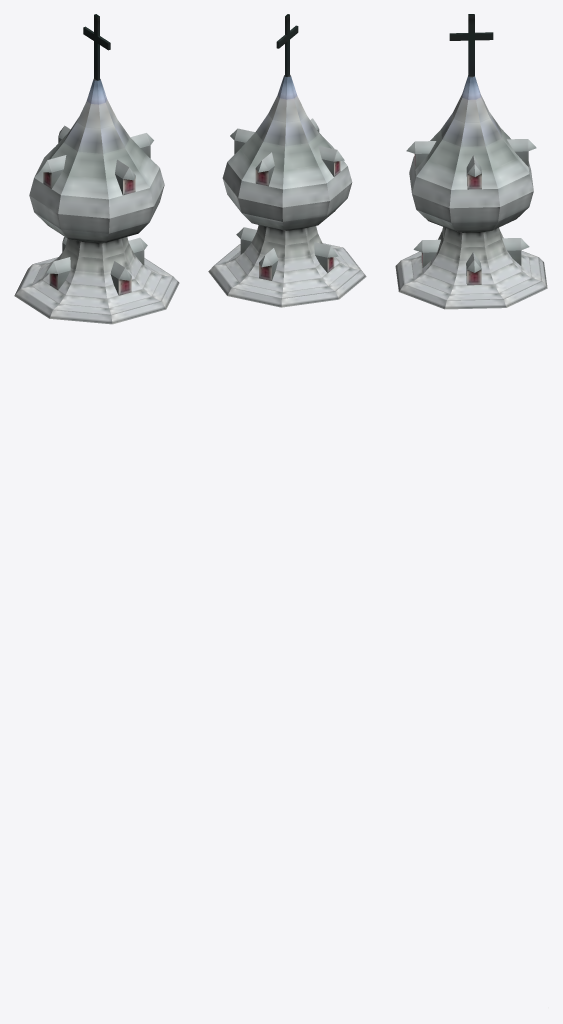
The model's file is euroB_08.glb.
The picture shows the model from 3 angles, left to right: view 1: azimuth 30°, elevation 25°; view 2: azimuth 150°, elevation 25°; view 3: azimuth 270°, elevation 25°; orthographic projection. The views are drawn at different scales.
Parts seen in each view (by area): view 1: geometry_2; view 2: geometry_2; view 3: geometry_2.
Boxes of the visible parts, x1,y1,x2,y2 form: geometry_2: [14, 14, 179, 324]; geometry_2: [208, 14, 366, 307]; geometry_2: [395, 14, 547, 309].
Size of the model in its own units: 3.93 by 28.11 by 3.96.
Materials: 2 (1 with a texture image).
